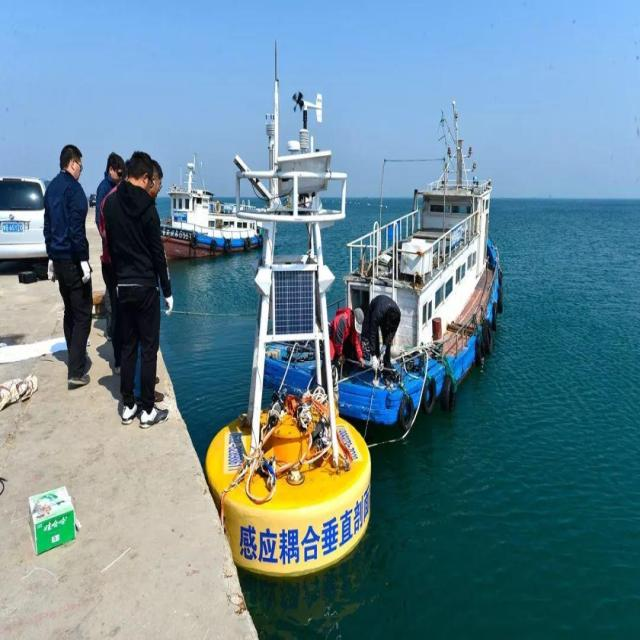buoy: (214, 74, 369, 574)
